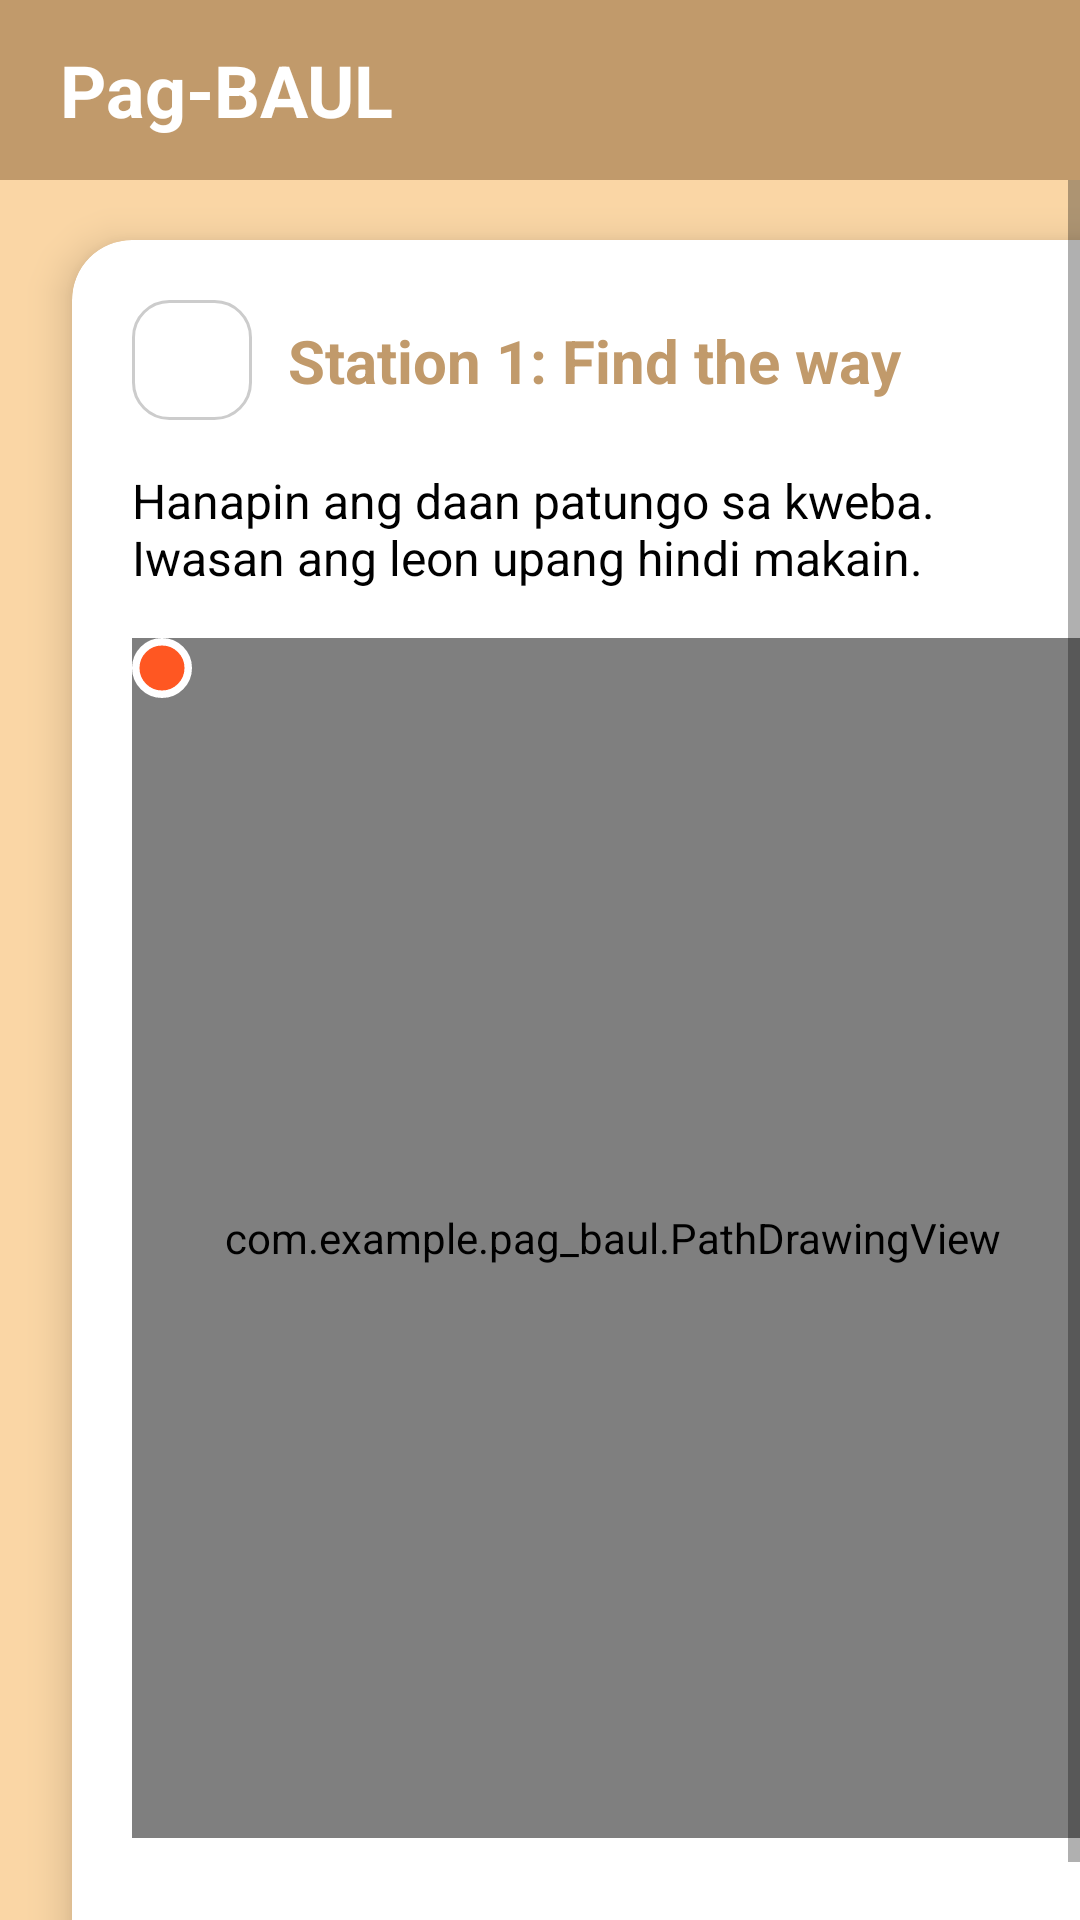

Screen size 1080px x 1920px. Icon name, then its center in pixels as (x,y):
player token: (162,668)
